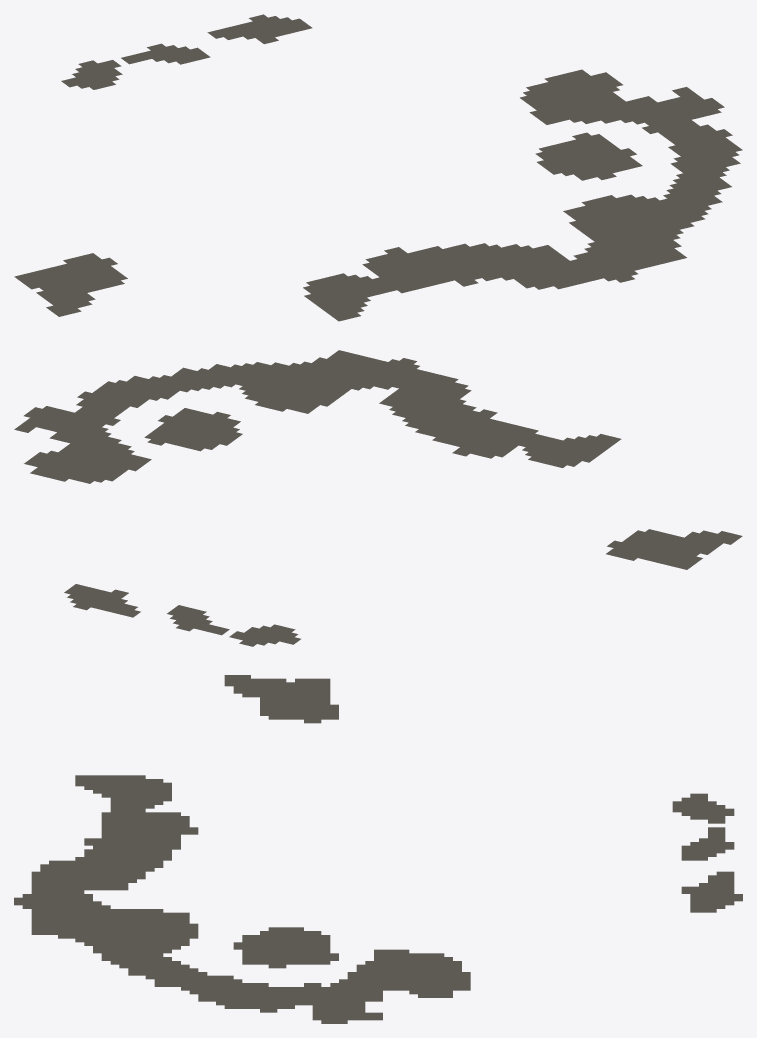
The model's file is Isl-start4-NoBuildArea.fbx.
3 renders of one model, top to bottom at view 1: azimuth 30°, elevation 25°; view 2: azimuth 150°, elevation 25°; view 3: azimuth 270°, elevation 25°, orthographic. The views are drawn at different scales.
Parts seen in each view (by area): view 1: Isl-start4-NoBuildArea; view 2: Isl-start4-NoBuildArea; view 3: Isl-start4-NoBuildArea.
Part boxes in pixels (x1,y1,x2,y2): Isl-start4-NoBuildArea: (14,14,742,321); Isl-start4-NoBuildArea: (14,350,742,646); Isl-start4-NoBuildArea: (14,675,742,1023).
Size of the model in its own units: 94 by 0 by 83.
